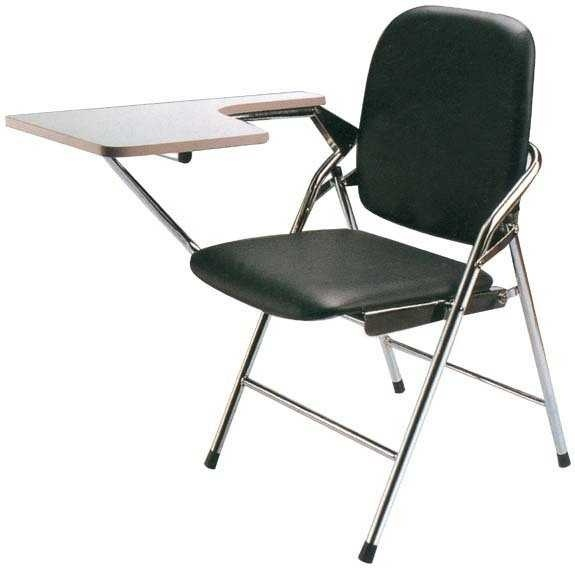obstacle: (0, 0, 574, 565)
